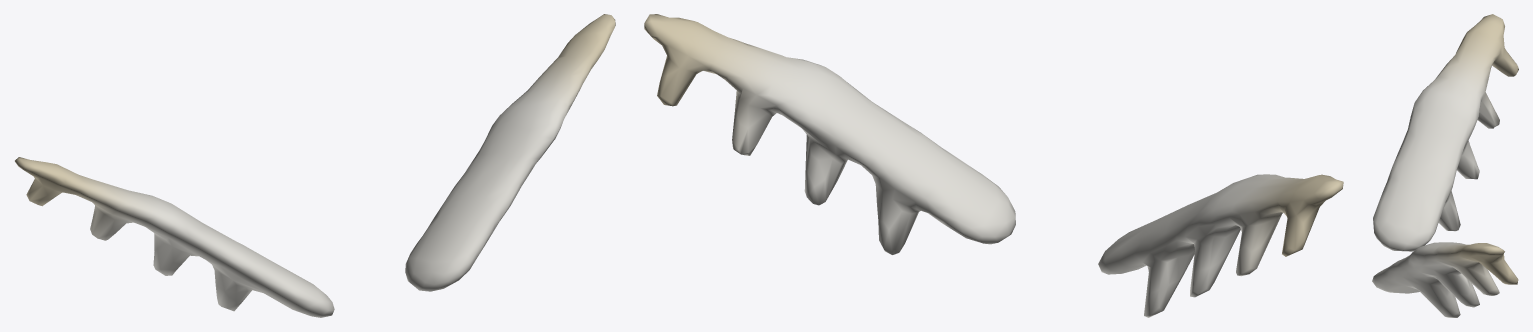
The model's file is canhthienthan.glb.
3 views of the same model, side by side, from view 1: azimuth 30°, elevation 25°; view 2: azimuth 150°, elevation 25°; view 3: azimuth 270°, elevation 25° (orthographic). The views are drawn at different scales.
Parts seen in each view (by area): view 1: Canh; view 2: Canh; view 3: Canh.
Boxes of the visible parts, x1,y1,x2,y2 form: Canh: (15,14,615,317); Canh: (644,14,1343,317); Canh: (1372,14,1518,317).
Size of the model in its own units: 0.3752 by 0.1069 by 0.0989.
